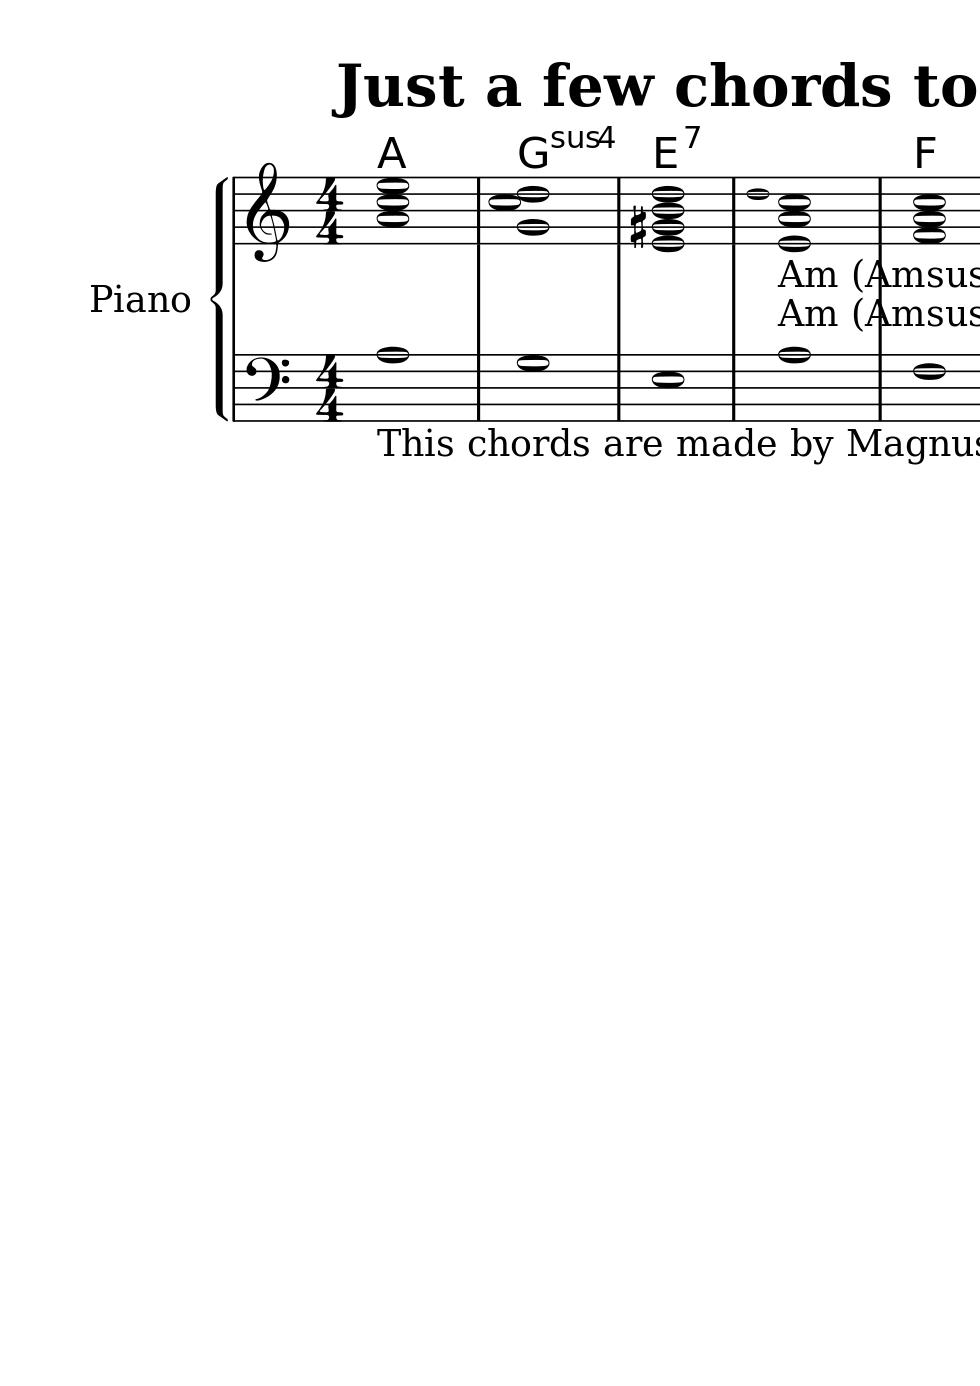1_4th: (650, 175, 686, 256)
1_5: (650, 352, 687, 426)
1_6: (517, 354, 549, 425), (913, 352, 944, 423)
1_8: (776, 343, 811, 425), (377, 343, 410, 424)
1_th: (490, 175, 554, 245), (775, 174, 813, 255), (911, 170, 947, 245), (374, 174, 412, 246)
4: (313, 176, 345, 212), (314, 388, 347, 422), (314, 353, 345, 388), (314, 212, 346, 245)
7: (682, 122, 701, 150)
Brace: (209, 171, 230, 421)
Fclef: (243, 352, 288, 423)
Gclef: (245, 159, 290, 263)
Pno: (86, 282, 191, 314)
Sharp: (626, 201, 647, 250)
Single_barline: (724, 178, 742, 245), (871, 177, 888, 244), (610, 177, 627, 243), (469, 178, 486, 244), (470, 354, 487, 420), (610, 354, 627, 420), (725, 355, 741, 420), (872, 355, 888, 420), (227, 177, 242, 245), (228, 355, 242, 421)
TimeSig: (314, 176, 347, 245), (314, 354, 346, 422)
